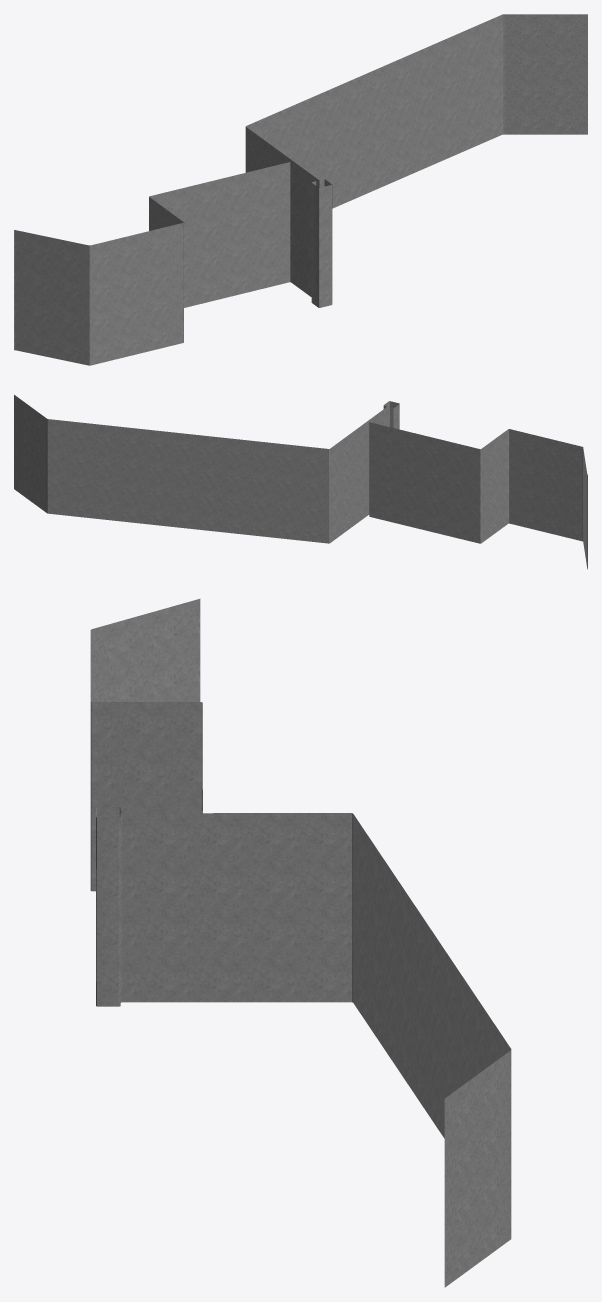
The model's file is WPLWall07.fbx.
The picture shows the model from 3 angles, top to bottom: view 1: azimuth 30°, elevation 25°; view 2: azimuth 150°, elevation 25°; view 3: azimuth 270°, elevation 25°; orthographic projection. The views are drawn at different scales.
Visible parts, largest first — view 1: Wall 07.Shape; view 2: Wall 07.Shape; view 3: Wall 07.Shape.
Part boxes in pixels (box(x1,y1,x2,y2)): Wall 07.Shape: box(14, 14, 587, 365); Wall 07.Shape: box(14, 395, 587, 569); Wall 07.Shape: box(90, 598, 511, 1287).
Bounding box in the file's own units: 3610 × 636 × 1282.
1 material, 1 textured.
